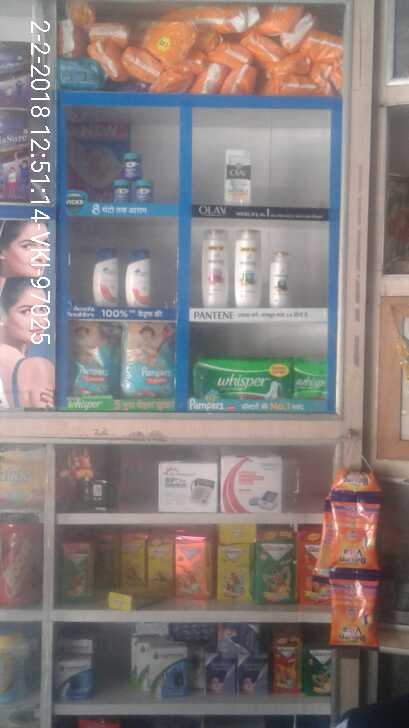vicks: (116, 151, 165, 208)
